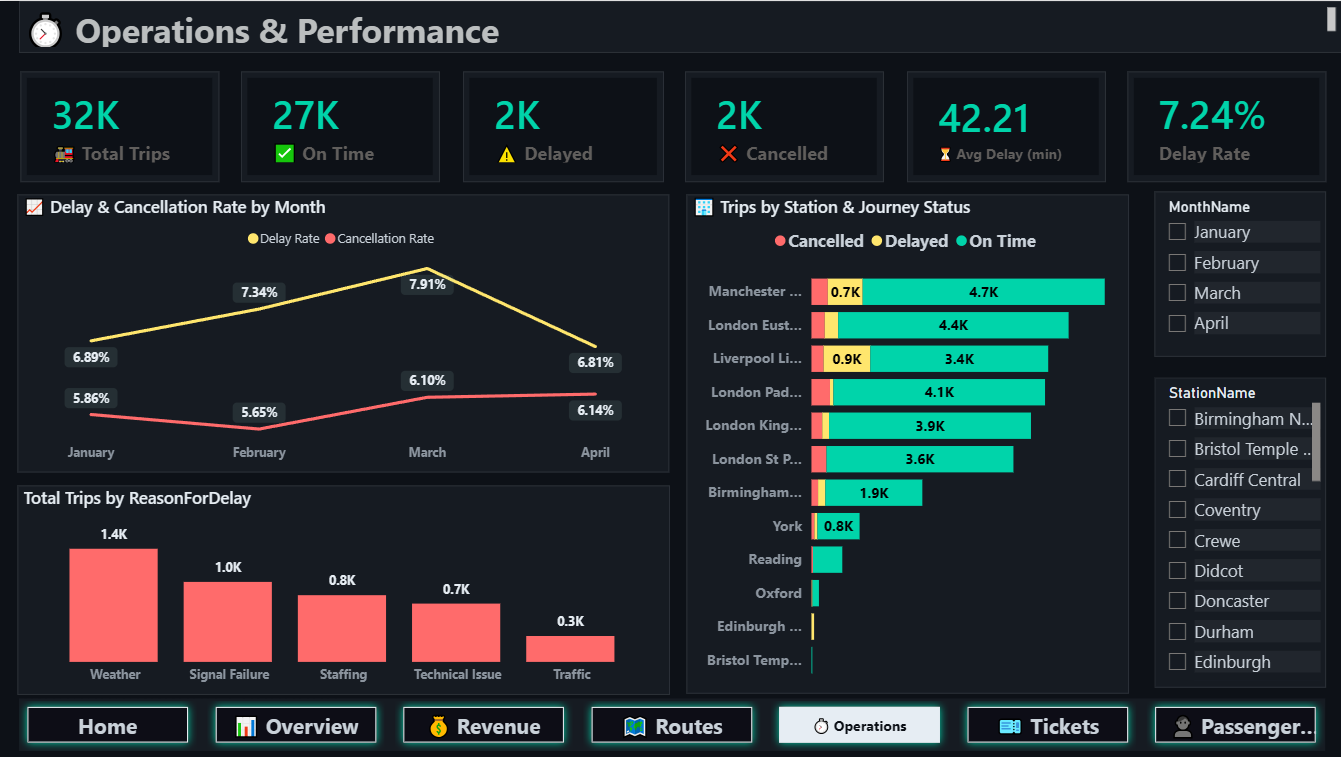

Layout of this report page (visuals, bound fields, positions):
{"tool":"powerbi","page":{"name":"⏱️ Operations","canvas":[1280,720],"ordinal":3},"visuals":[{"type":"textbox","box":[19.7,0,1260.5,49.3],"z":0},{"type":"cardVisual","fields":{"Data":["Measures_page1.Total Trips"]},"box":[21,66.6,189.3,105.2],"z":1000},{"type":"cardVisual","fields":{"Data":["Measures_page1.On Time Trips"]},"box":[231.7,66.6,189.3,105.2],"z":2000},{"type":"cardVisual","fields":{"Data":["Measures_page1.Delayed Trips"]},"box":[442.4,66.6,191,105.2],"z":3000},{"type":"cardVisual","fields":{"Data":["Measures_page1.Cancelled Trips"]},"box":[654.8,66.6,189.3,105.2],"z":4000},{"type":"cardVisual","fields":{"Data":["Measures_page1.Delay Rate"]},"box":[1076.1,66.6,189.3,105.2],"z":5000},{"type":"lineChart","title":"📈 Delay & Cancellation Rate by Month","fields":{"Category":["Dim_Date.MonthName"],"Y":["Measures_page1.Delay Rate","Measures_page1.Cancellation Rate"]},"box":[19.3,184,620.4,264.6],"z":6000},{"type":"clusteredColumnChart","fields":{"Category":["Fact_Tickets.ReasonForDelay"],"Y":["Measures_page1.Total Trips"]},"box":[19,461.6,621,199],"z":7000},{"type":"barChart","title":"🏢 Trips by Station & Journey Status","fields":{"Y":["Measures_page1.Total Trips"],"Category":["Dim_Station.StationName"],"Series":["Fact_Tickets.JourneyStatus"]},"box":[655.1,184.5,610.5,475.2],"z":8000},{"type":"pageNavigator","box":[20.3,664.3,1244.1,50],"z":9000},{"type":"cardVisual","fields":{"Data":["Measures_page4.Avg Delay Minutes (Delayed Only)"]},"box":[865.5,66.6,189.3,105.2],"z":10000}]}

Visuals, with their boxes in screenshot pixels (x1, y1, x2, y2), scaled from the page's 1280x720 canvas onto the 1341x757 screenshot:
textbox: Rect(21, 0, 1340, 52)
cardVisual - Measures_page1.Total Trips: Rect(22, 70, 220, 181)
cardVisual - Measures_page1.On Time Trips: Rect(243, 70, 441, 181)
cardVisual - Measures_page1.Delayed Trips: Rect(463, 70, 664, 181)
cardVisual - Measures_page1.Cancelled Trips: Rect(686, 70, 884, 181)
cardVisual - Measures_page1.Delay Rate: Rect(1127, 70, 1326, 181)
"📈 Delay & Cancellation Rate by Month" lineChart: Rect(20, 193, 670, 472)
clusteredColumnChart - Fact_Tickets.ReasonForDelay x Measures_page1.Total Trips: Rect(20, 485, 670, 695)
"🏢 Trips by Station & Journey Status" barChart: Rect(686, 194, 1326, 694)
pageNavigator: Rect(21, 698, 1325, 751)
cardVisual - Measures_page4.Avg Delay Minutes (Delayed Only): Rect(907, 70, 1105, 181)
